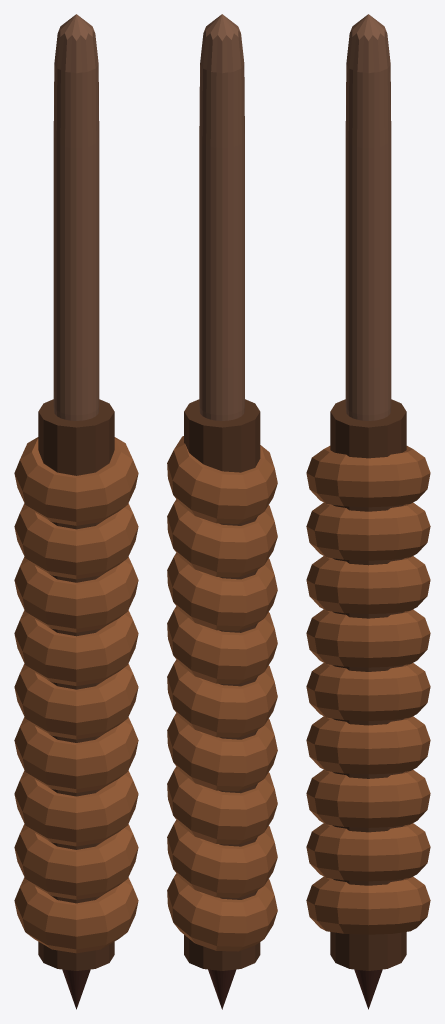
Rendered from Wand 412.glb.
3 renders of one model, left to right at view 1: azimuth 90°, elevation 25°; view 2: azimuth 150°, elevation 25°; view 3: azimuth 270°, elevation 25°, orthographic.
Visible parts, largest first — view 1: GeneratedWand; view 2: GeneratedWand; view 3: GeneratedWand.
Boxes of the visible parts, x1,y1,x2,y2 form: GeneratedWand: (14, 14, 138, 1009); GeneratedWand: (167, 14, 277, 1009); GeneratedWand: (306, 14, 430, 1009).
Bounding box in the file's own units: 0.0497 × 0.5143 × 0.0581.
